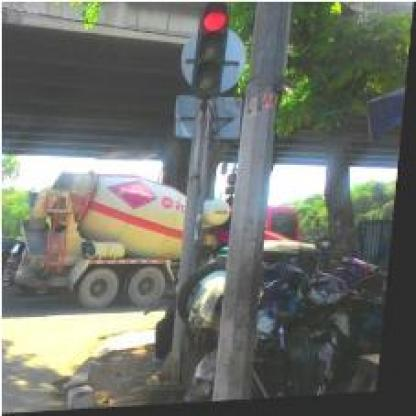red: (190, 2, 231, 97)
